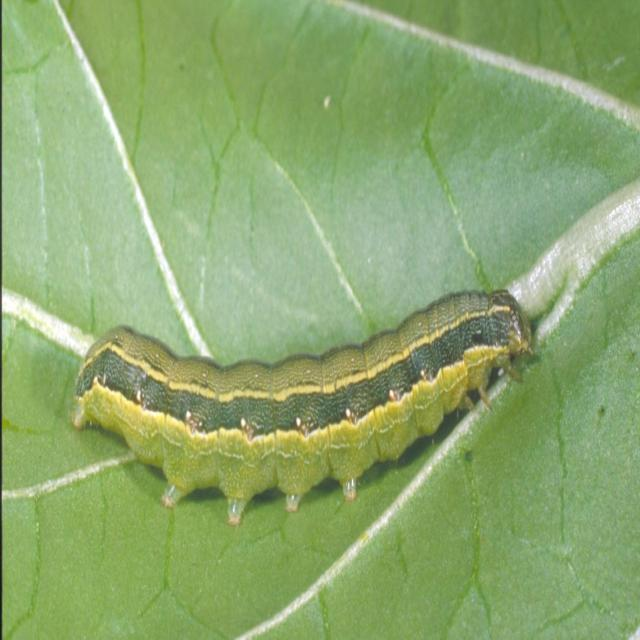BeetArmyWorm-Larva-: (67, 286, 537, 511)
